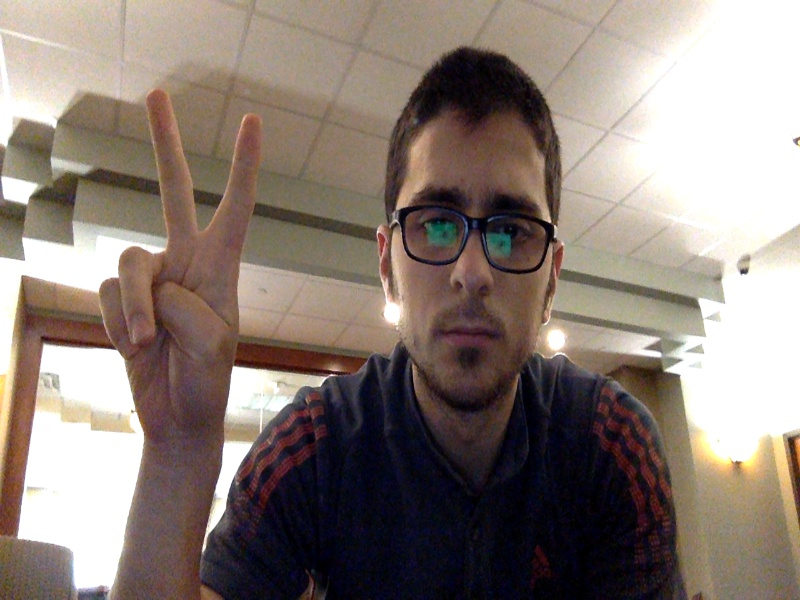2-hand: (100, 92, 262, 449)
